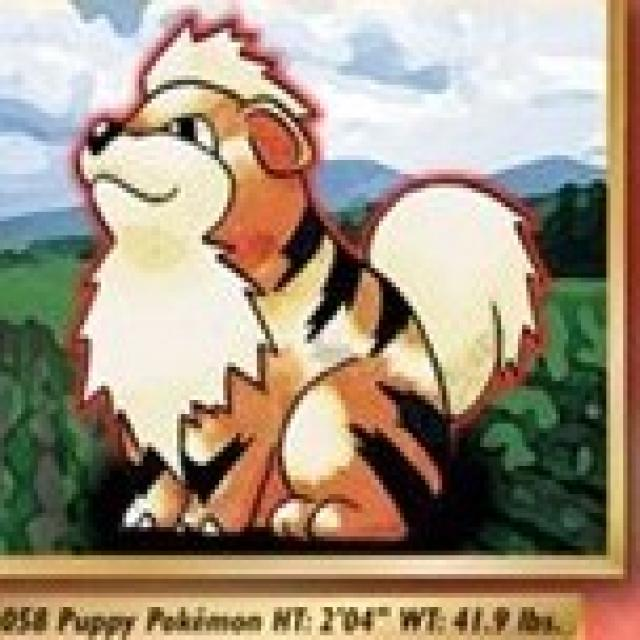Growlithe: (49, 24, 467, 549)
